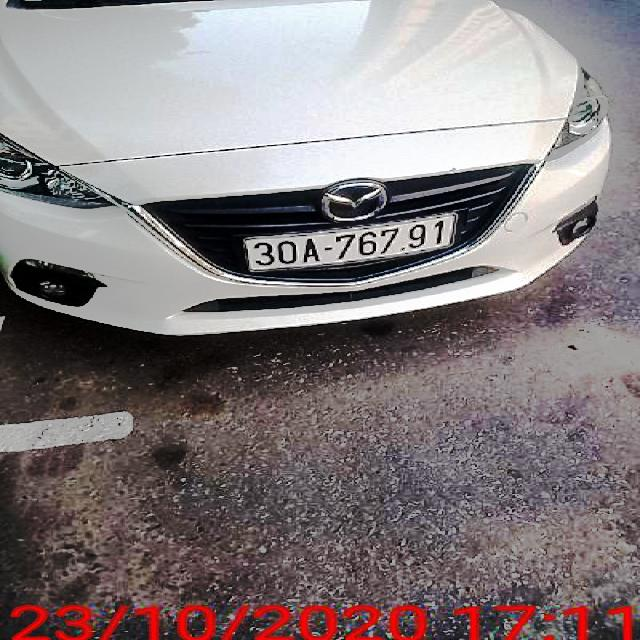license_plate: (246, 215, 456, 272)
